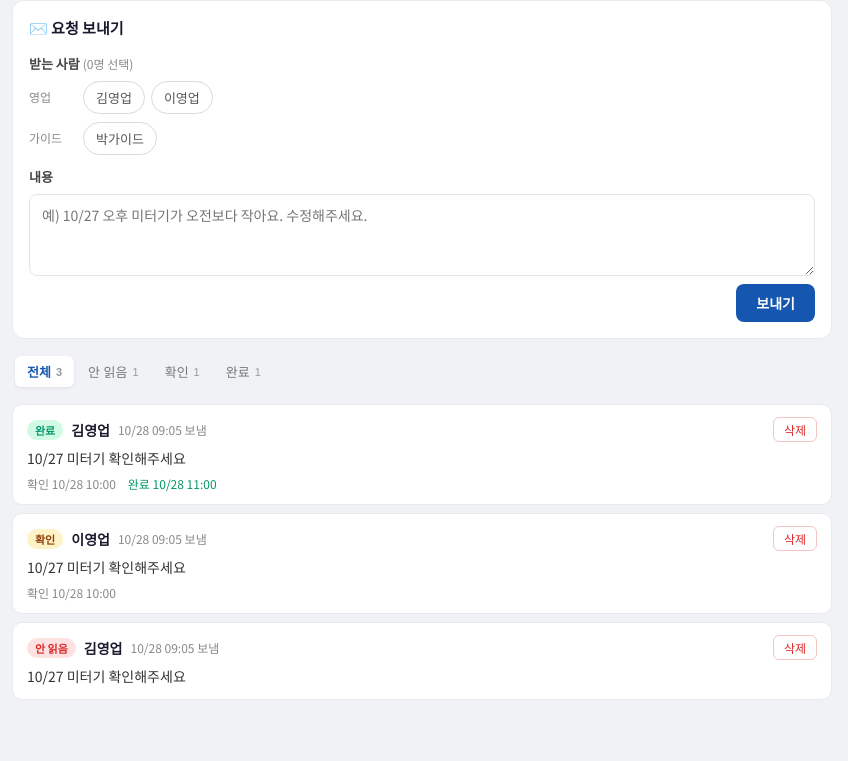
관리자 – 요청사항 탭 › 받는 사람을 고르고 내용을 적어 보내기
This screenshot has width=848, height=761.
Click the button "김영업" at point(114, 98), box [83, 81, 145, 114]
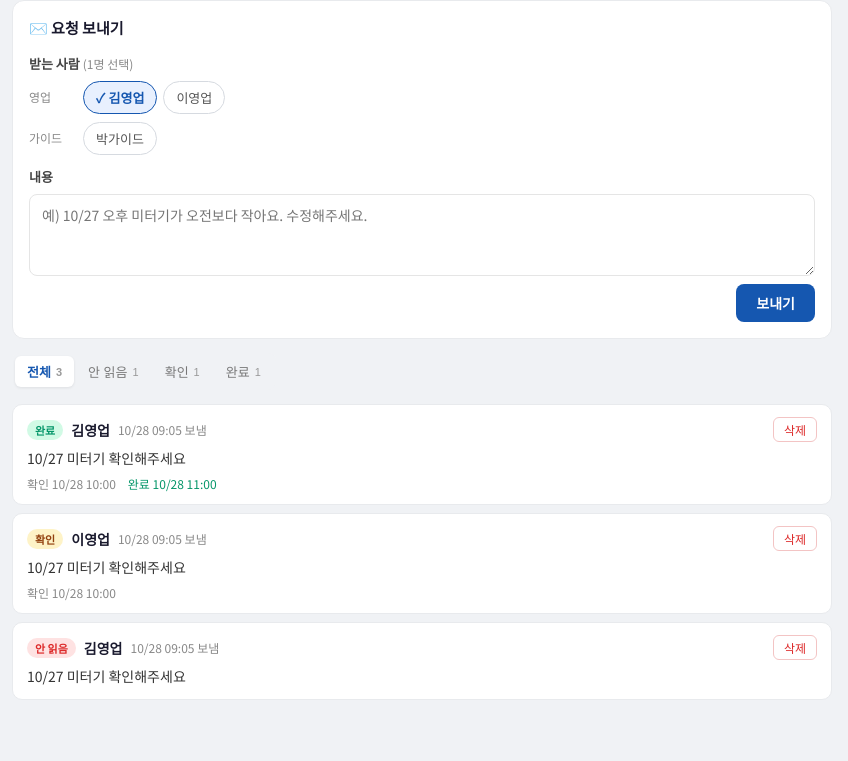
Click the button "박가이드" at point(120, 138), box [83, 122, 157, 155]
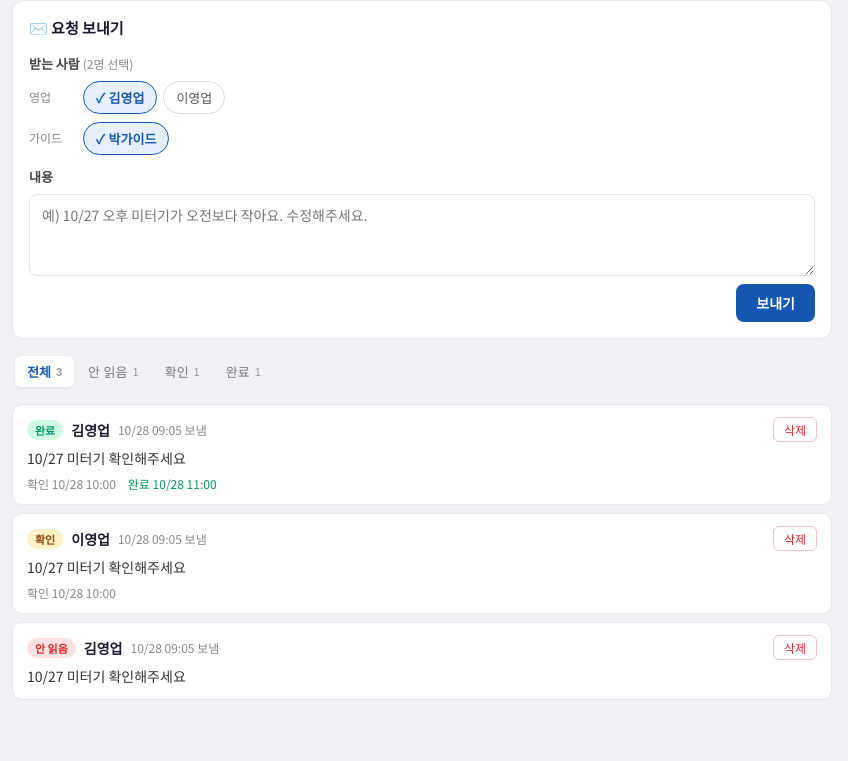
Expected: the text "(2명 선택)" is shown, [83, 55, 133, 72]
내용 없으면 안 보냄
Click the button "보내기" at point(776, 303), box [736, 284, 815, 322]
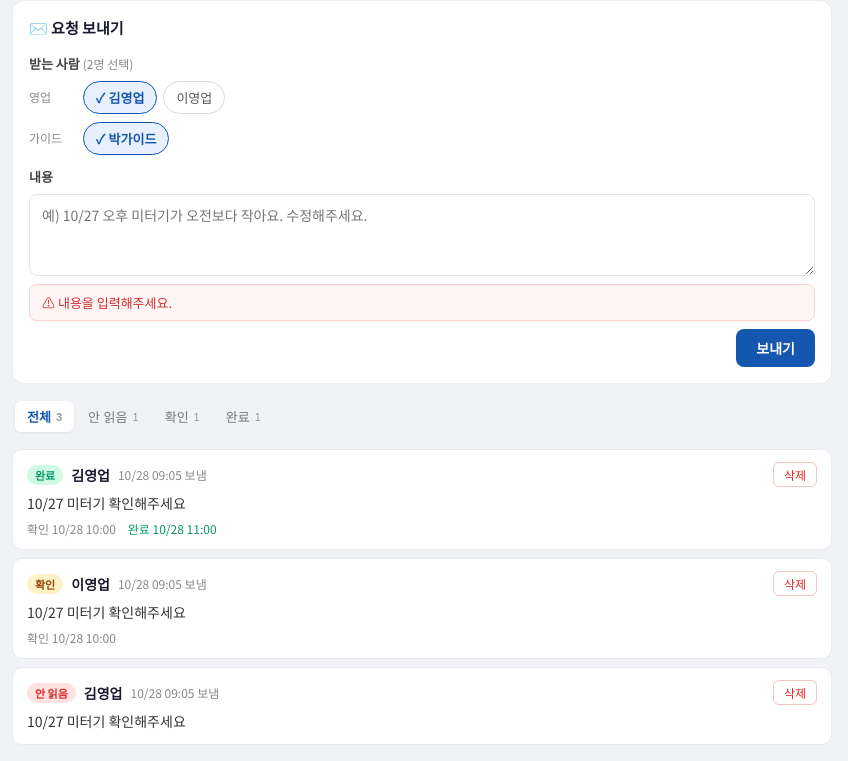
Expected: the text "⚠ 내용을 입력해주세요." is shown, [29, 284, 815, 321]
Type "  오후 미터기 확인  " into the text box with placeholder "예) 10/27 오후 미터기가 오전보다 작아요. 수정해주세요." at point(422, 235), box [29, 194, 815, 276]
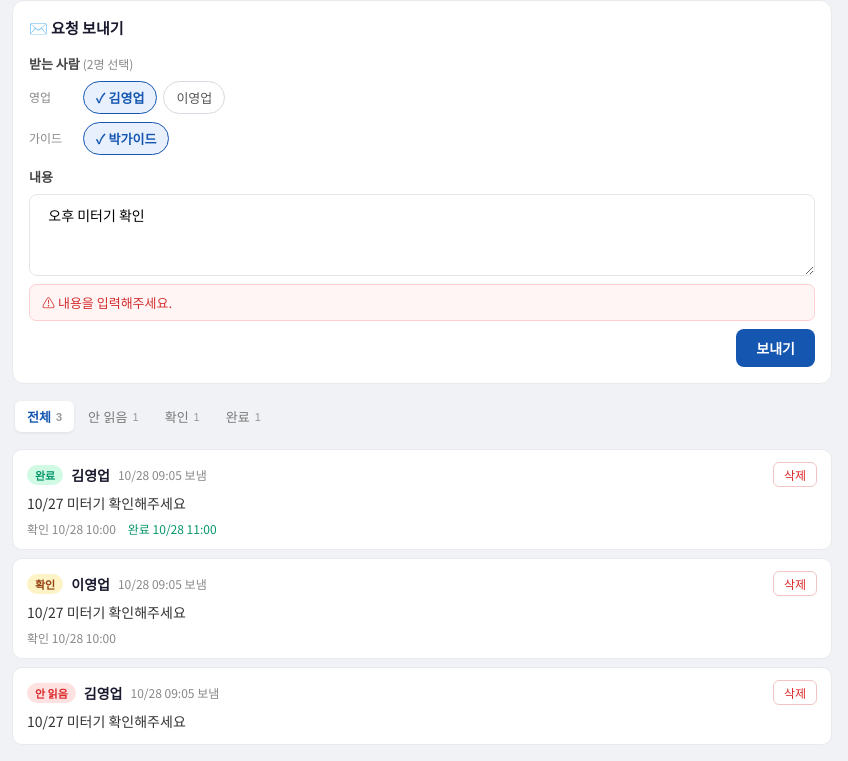
Click the button "보내기" at point(776, 348), box [736, 329, 815, 367]
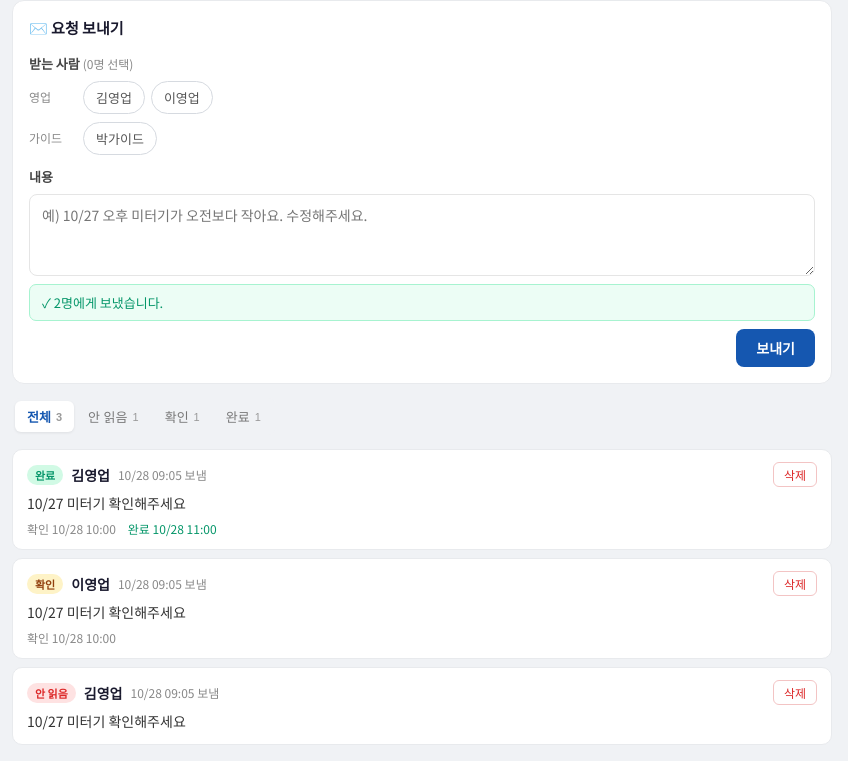
Expected: the text "✓ 2명에게 보냈습니다." is shown, [29, 284, 815, 321]
